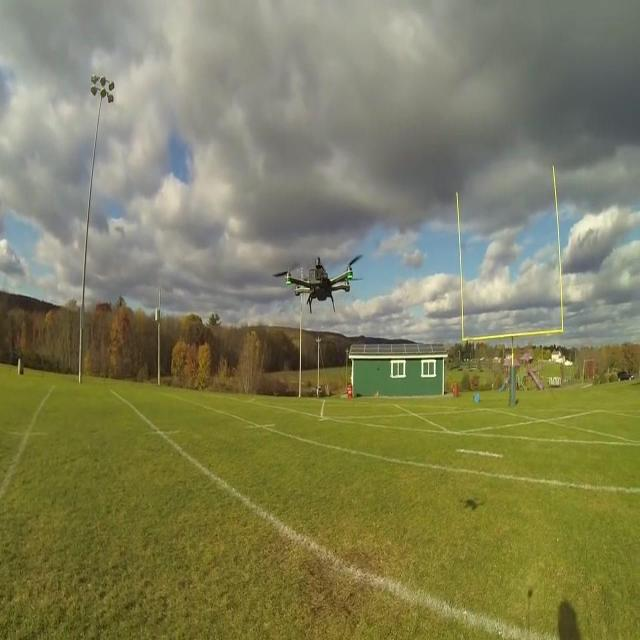UAV: (272, 254, 364, 315)
